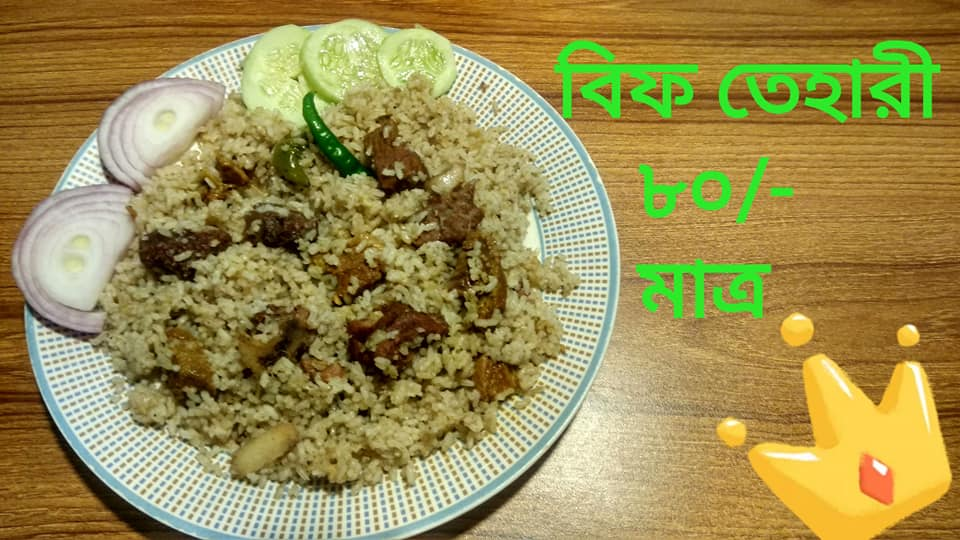tehari: (91, 74, 585, 496)
